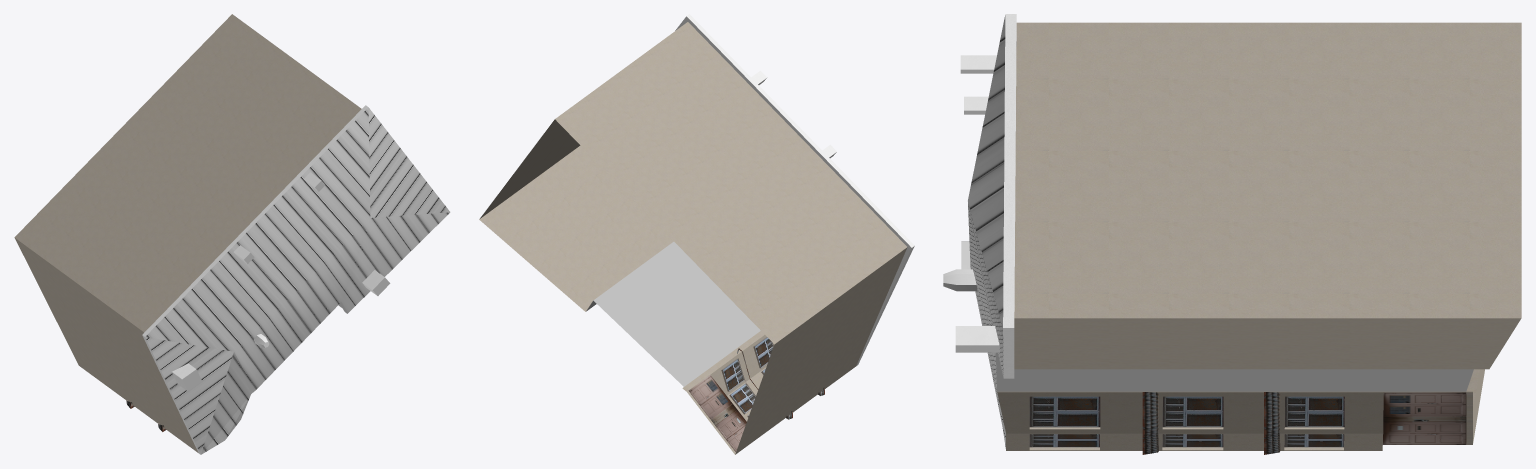
File: Suur-Karja_21.obj
3 views of the same model, side by side, from view 1: azimuth 30°, elevation 25°; view 2: azimuth 150°, elevation 25°; view 3: azimuth 270°, elevation 25° (orthographic). The views are drawn at different scales.
Visible parts, largest first — view 1: Suur_Karja_21; view 2: Suur_Karja_21, xxx; view 3: Suur_Karja_21, xxx.
Boxes of the visible parts, x1,y1,x2,y2 form: Suur_Karja_21: (14,14,450,454); Suur_Karja_21: (479,14,914,454); xxx: (586,241,760,386); Suur_Karja_21: (943,14,1521,454); xxx: (995,352,1473,391).
Size of the model in its own units: 22.4 by 21.75 by 19.23.
